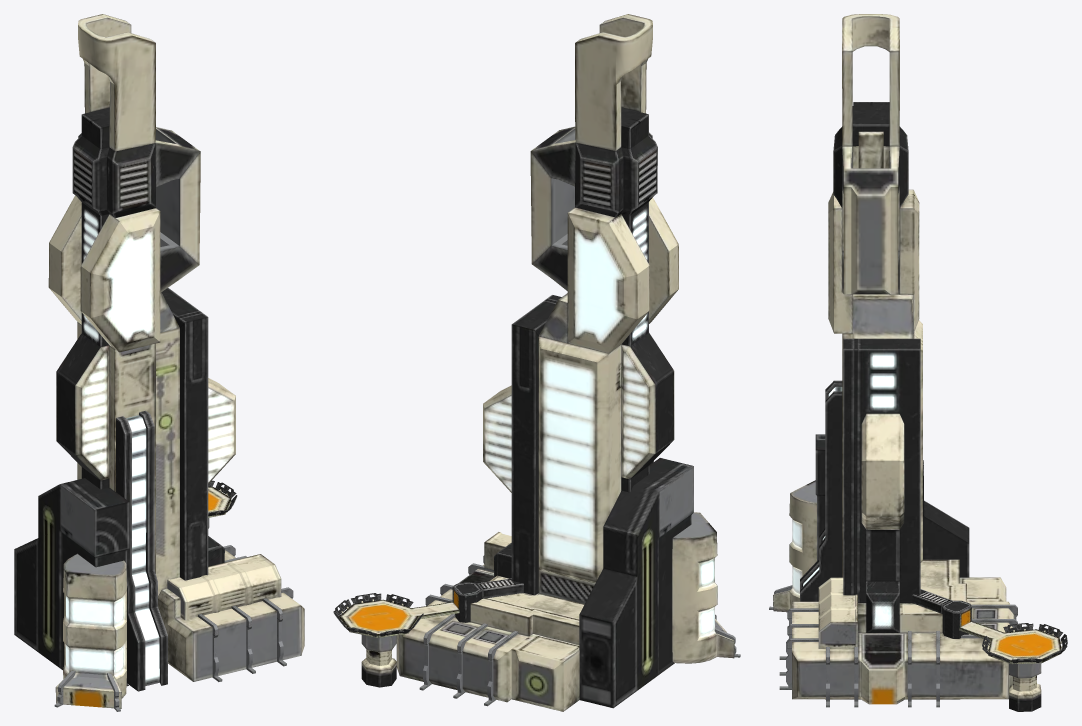
Rendered from BLD_HormoneSpire.glb.
3 renders of one model, left to right at view 1: azimuth 30°, elevation 25°; view 2: azimuth 150°, elevation 25°; view 3: azimuth 270°, elevation 25°, orthographic. The views are drawn at different scales.
Visible parts, largest first — view 1: Object001_02 - Default_0; view 2: Object001_02 - Default_0; view 3: Object001_02 - Default_0.
Part boxes in pixels (x1,y1,x2,y2): Object001_02 - Default_0: [14, 14, 304, 711]; Object001_02 - Default_0: [333, 14, 740, 711]; Object001_02 - Default_0: [769, 14, 1067, 711].
Size of the model in its own units: 2870 by 6043 by 2707.
Materials: 1 (1 with a texture image).
